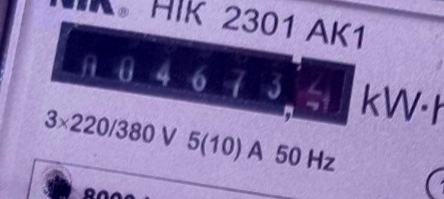0: (77, 48, 102, 81), (115, 52, 138, 85)
2: (304, 64, 329, 99)
3: (264, 67, 286, 103)
4: (153, 53, 176, 91)
6: (187, 58, 212, 95)
7: (224, 64, 251, 104)
screen: (45, 15, 362, 136)
